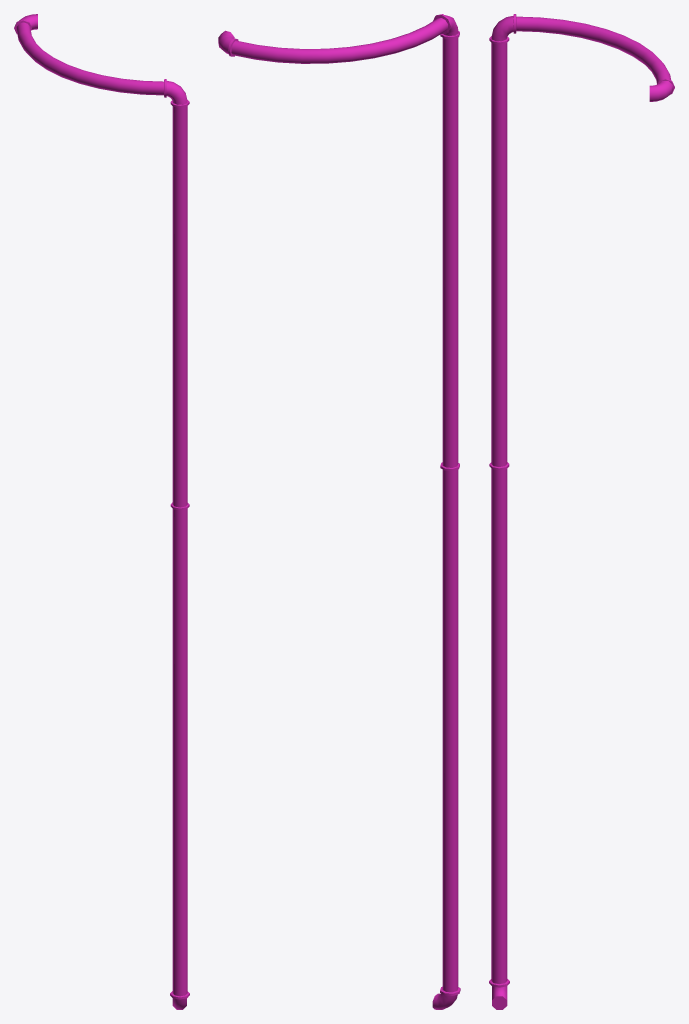
File: Tank_Pipe_01_Lod1.fbx
3 views of the same model, side by side, from view 1: azimuth 90°, elevation 25°; view 2: azimuth 150°, elevation 25°; view 3: azimuth 270°, elevation 25° (orthographic). The views are drawn at different scales.
Parts seen in each view (by area): view 1: Tank_Pipe_01_Lod1; view 2: Tank_Pipe_01_Lod1; view 3: Tank_Pipe_01_Lod1.
Part boxes in pixels (<box>): Tank_Pipe_01_Lod1: <box>14,14,189,1009</box>; Tank_Pipe_01_Lod1: <box>218,14,460,1009</box>; Tank_Pipe_01_Lod1: <box>489,14,674,1009</box>.
Size of the model in its own units: 1088 by 6432 by 1096.
